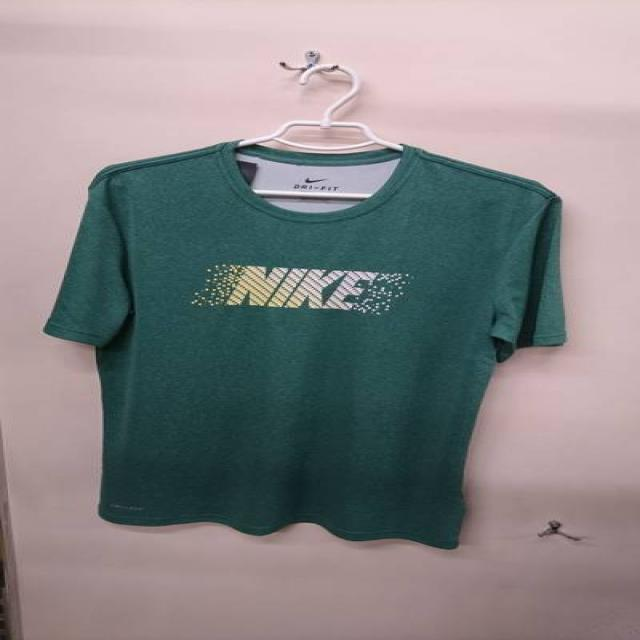shirt: (38, 140, 564, 550)
